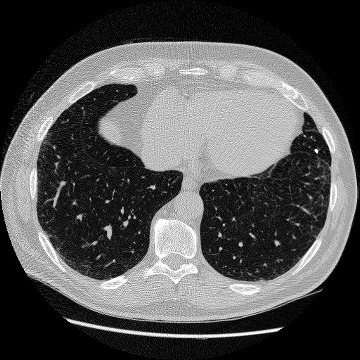nodule: (314, 149, 318, 153)
